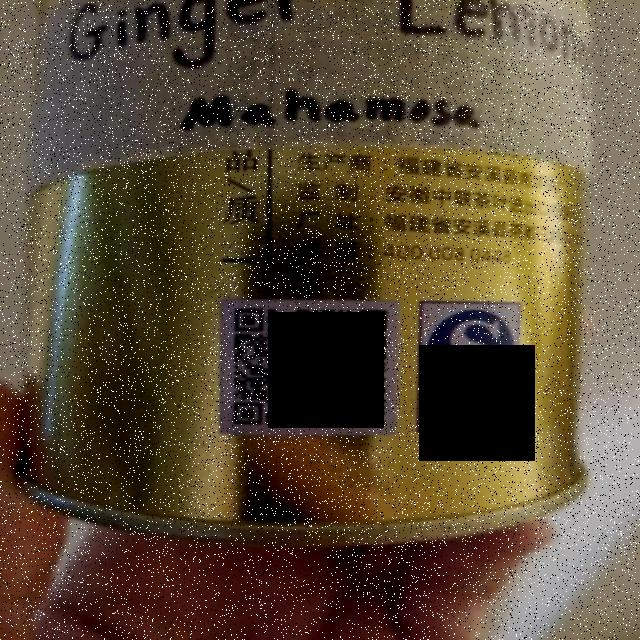QR_CODE: (221, 298, 399, 434)
